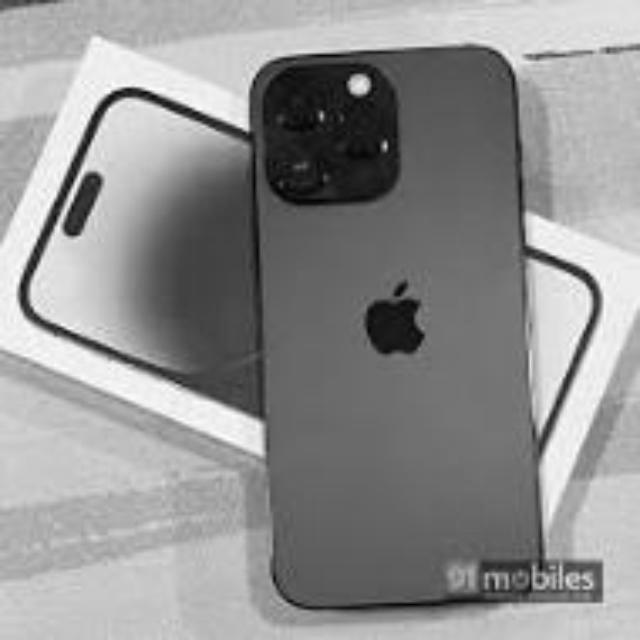fake: (250, 41, 560, 603)
